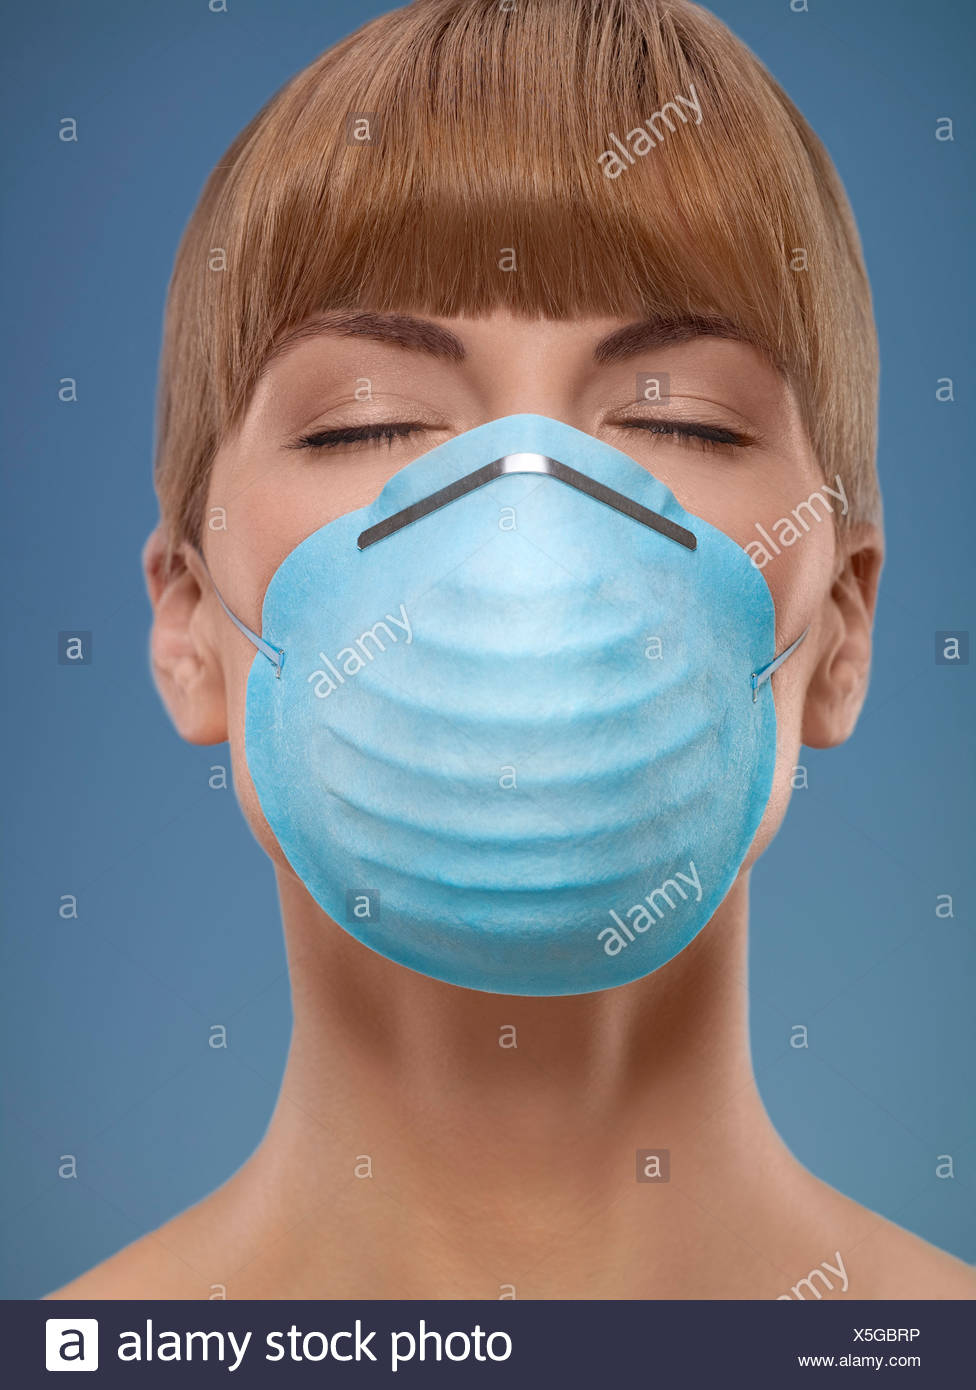mask: (247, 483, 786, 1009)
